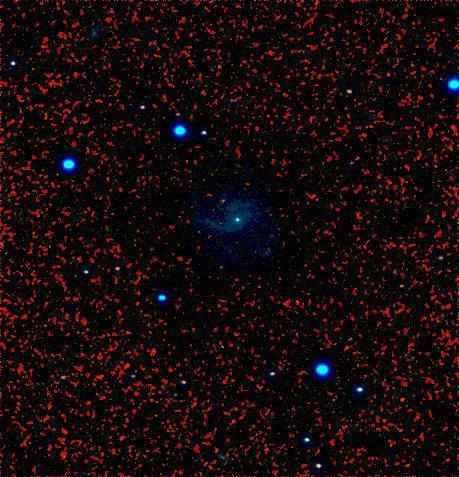star: (207, 183, 237, 213)
